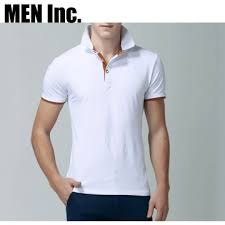S_polo shirt: (41, 28, 174, 199)
